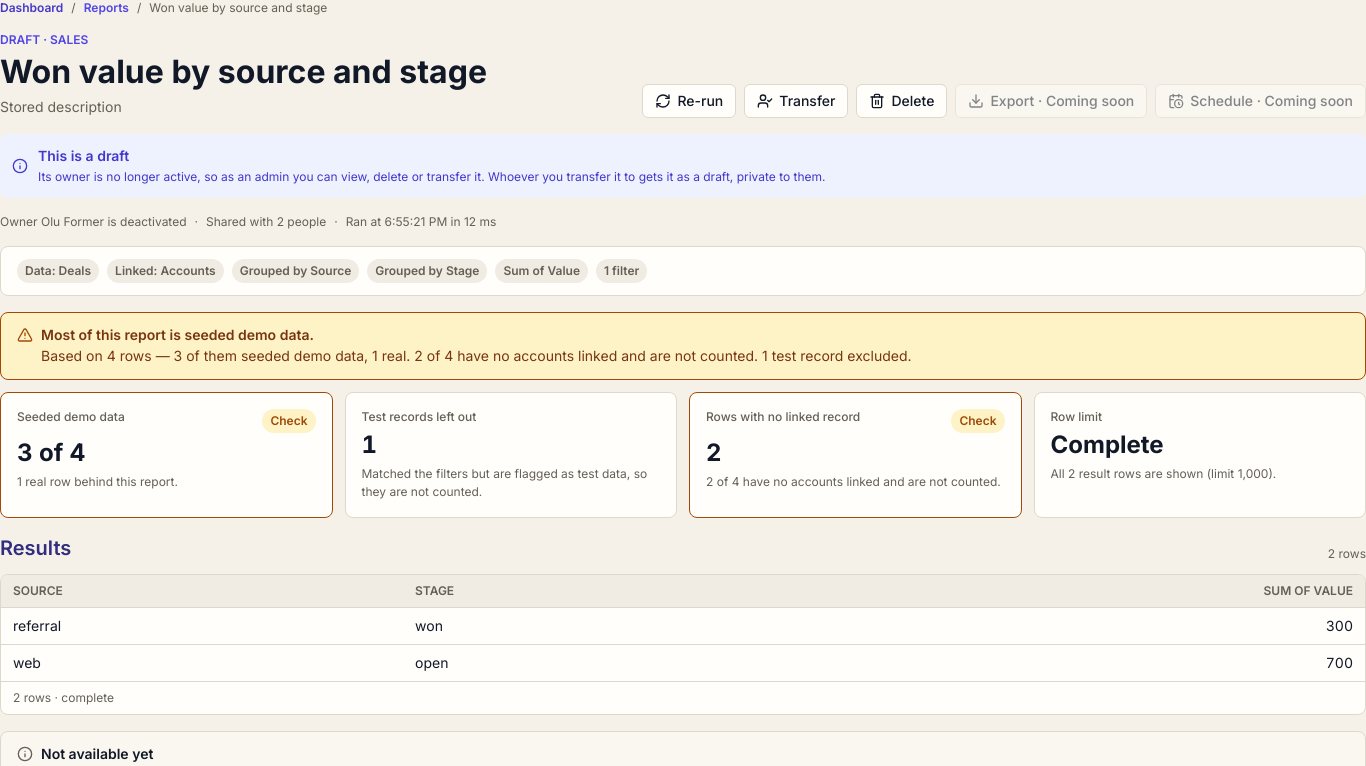
Scenario: admin transfer of an ownerless report › an ownerless DRAFT: the notice speaks to the admin, and a transfer says it stays a draft
Expected: the text "Its owner is no longer active, so as an admin you can view, delete or transfer it" is shown, top-left (38, 169), bottom-right (826, 184)
Step 1. Click the button "Transfer" → (796, 101), box top-left (744, 84), bottom-right (848, 118)
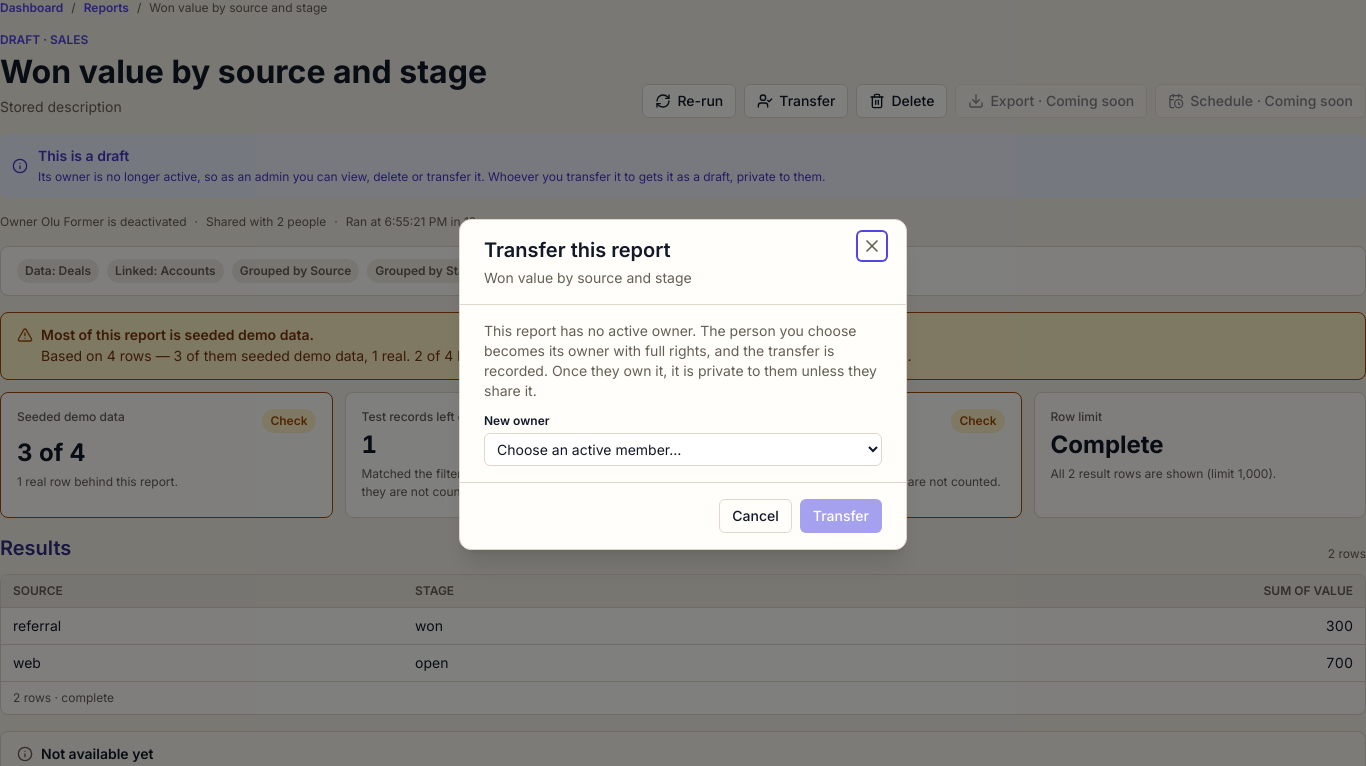
Step 2. Select "Bo New · bo@x.test" in the dropdown → (683, 449), box top-left (484, 432), bottom-right (882, 466)
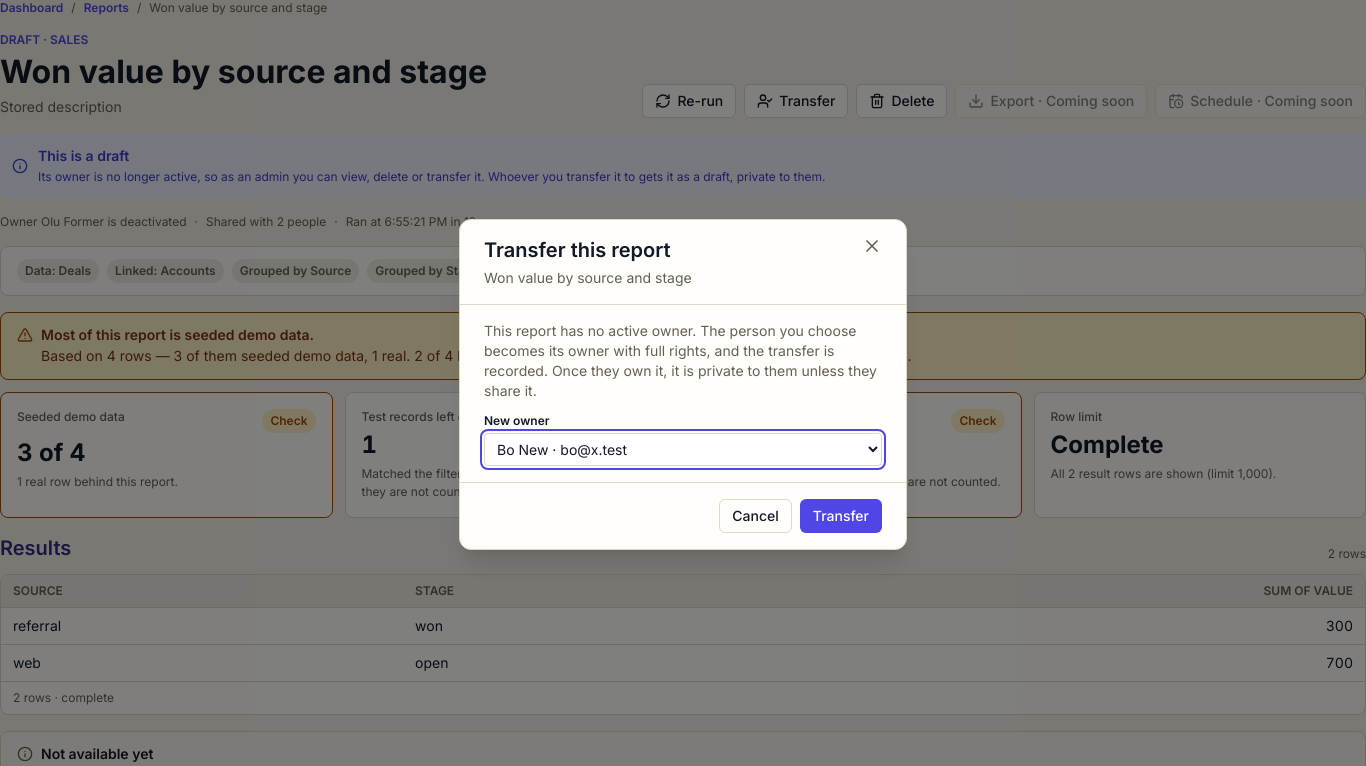
Step 3. Click the button "Transfer" → (841, 516), box top-left (800, 498), bottom-right (882, 532)
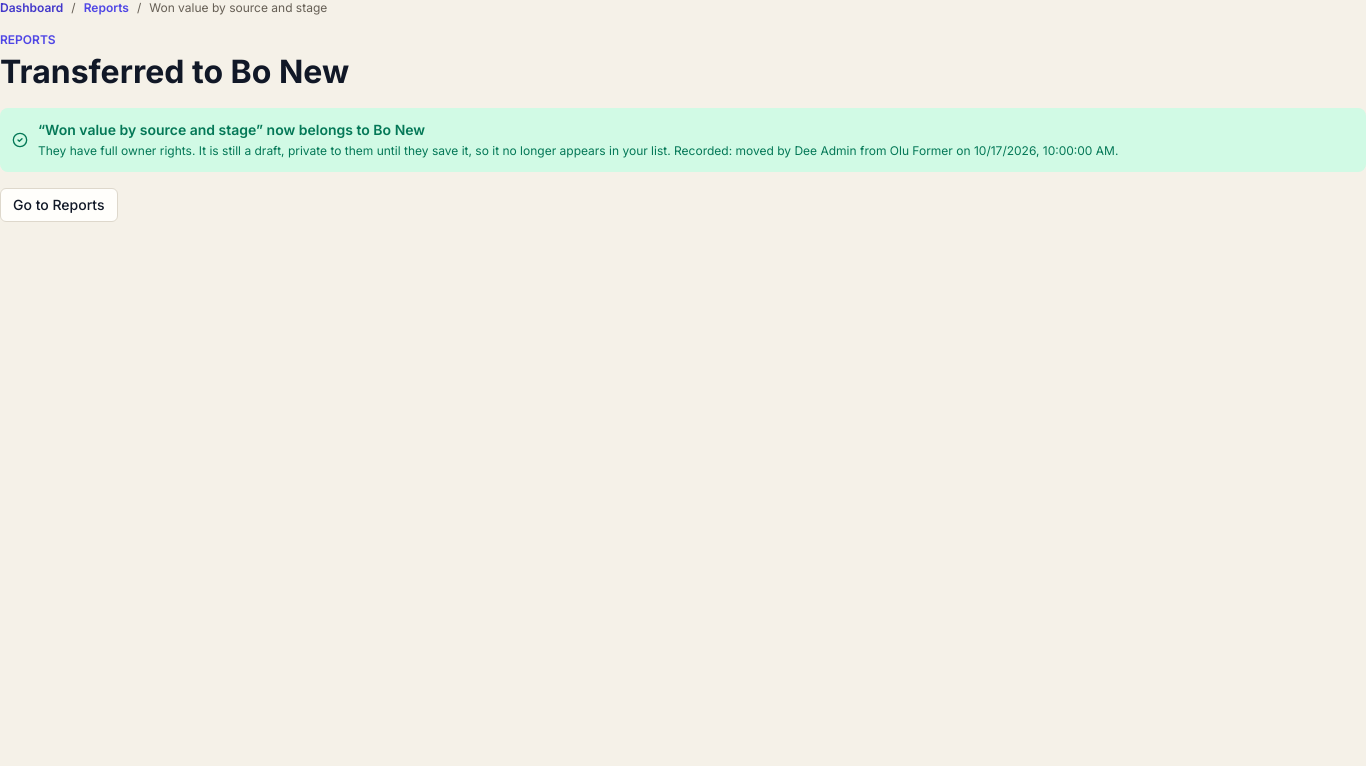
Expected: the element with test id "report-transferred" shows "It is still a draft, private to them until they save it", top-left (199, 143), bottom-right (472, 158)
